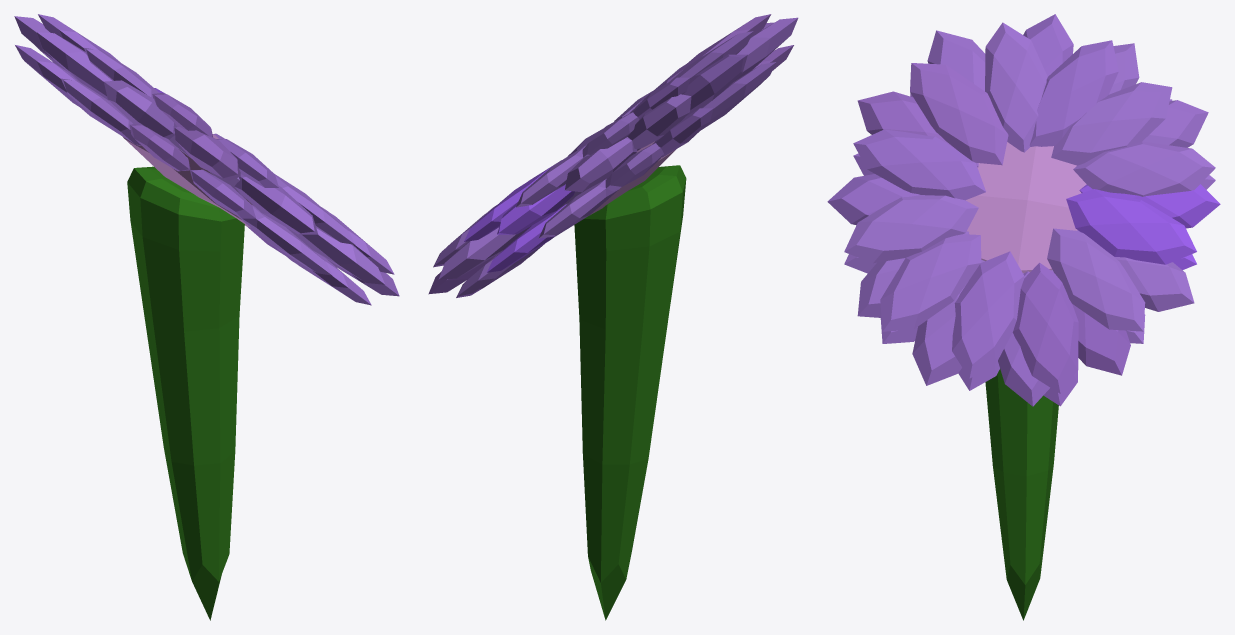
The model's file is PurpleFlower_v.1.0.fbx.
The picture shows the model from 3 angles, left to right: view 1: azimuth 30°, elevation 25°; view 2: azimuth 150°, elevation 25°; view 3: azimuth 270°, elevation 25°; orthographic projection. The views are drawn at different scales.
Visible parts, largest first — view 1: Cube.032; view 2: Cube.032; view 3: Cube.032.
Part boxes in pixels (x1,y1,x2,y2): Cube.032: (14,14,399,620); Cube.032: (428,14,798,620); Cube.032: (827,14,1220,620).
Bounding box in the file's own units: 26.55 × 50.17 × 33.12.
